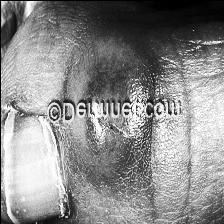Toxin: (84, 75, 126, 165)
